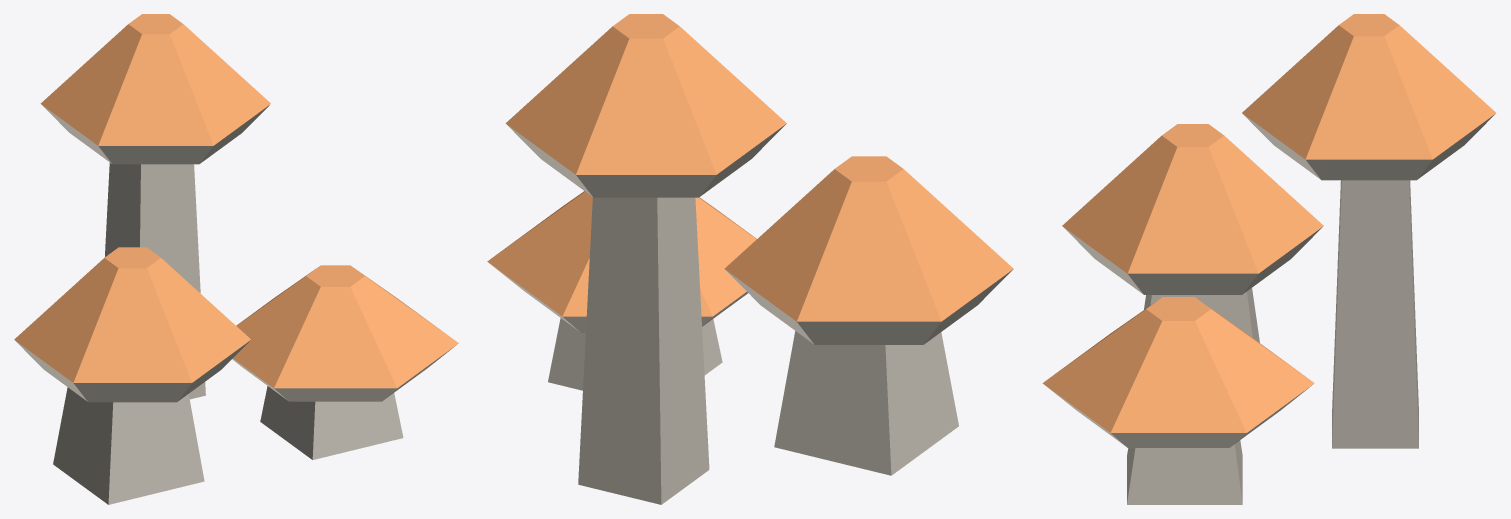
The model's file is mushroom_cluster_tan.glb.
3 renders of one model, left to right at view 1: azimuth 30°, elevation 25°; view 2: azimuth 150°, elevation 25°; view 3: azimuth 270°, elevation 25°, orthographic. The views are drawn at different scales.
Visible parts, largest first — view 1: mushroom_cluster_tan; view 2: mushroom_cluster_tan; view 3: mushroom_cluster_tan.
Boxes of the visible parts, x1,y1,x2,y2 form: mushroom_cluster_tan: [14, 14, 458, 504]; mushroom_cluster_tan: [487, 14, 1013, 504]; mushroom_cluster_tan: [1042, 14, 1495, 504].
Bounding box in the file's own units: 0.2696 × 0.2505 × 0.2542.
